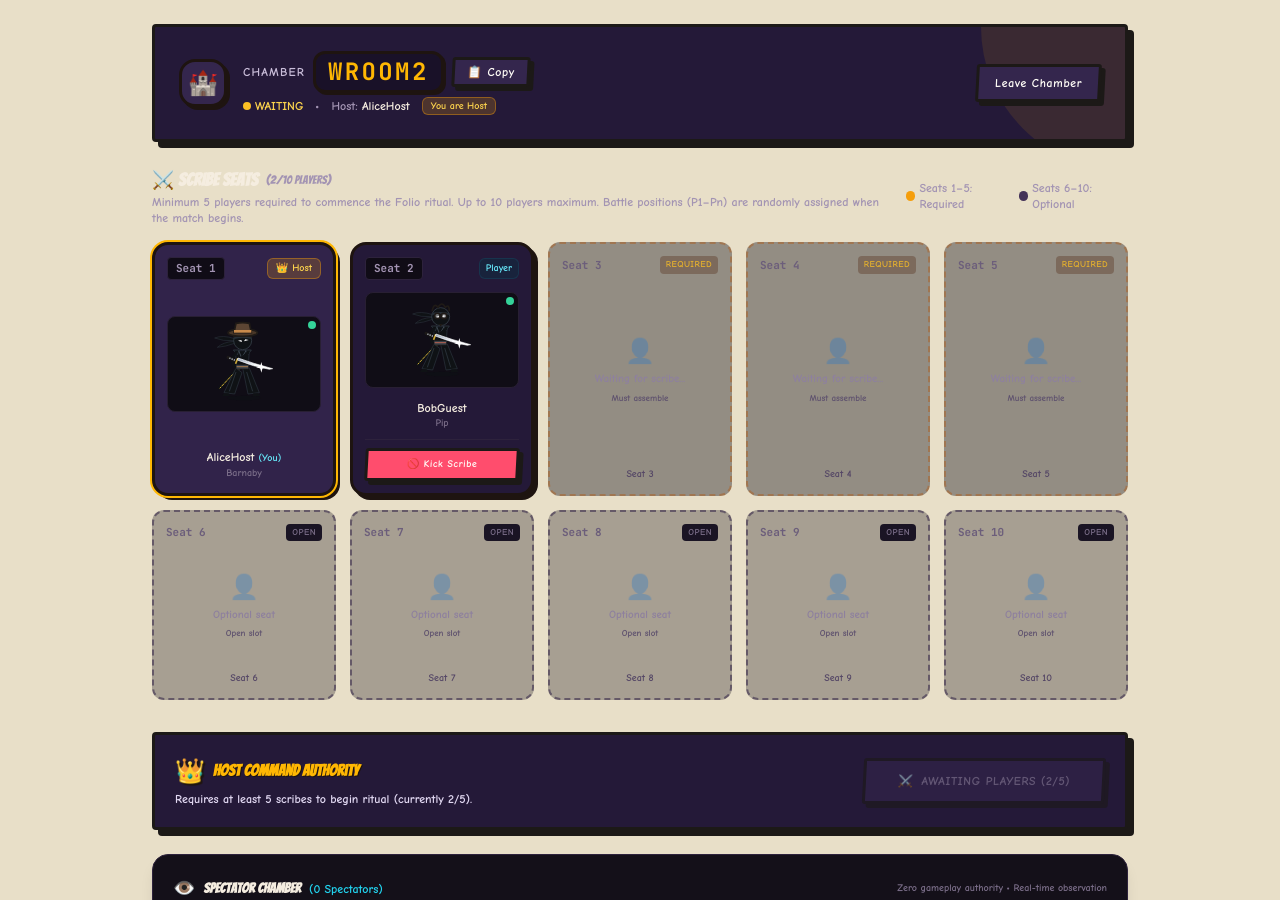
WaitingRoomScreen Component Tests (Milestone 2: Waiting Room & Host Controls) › clicking Copy chamber code copies code to clipboard and indicates feedback
Click the button titled "Copy chamber code" at (491, 72), box [451,57,530,87]
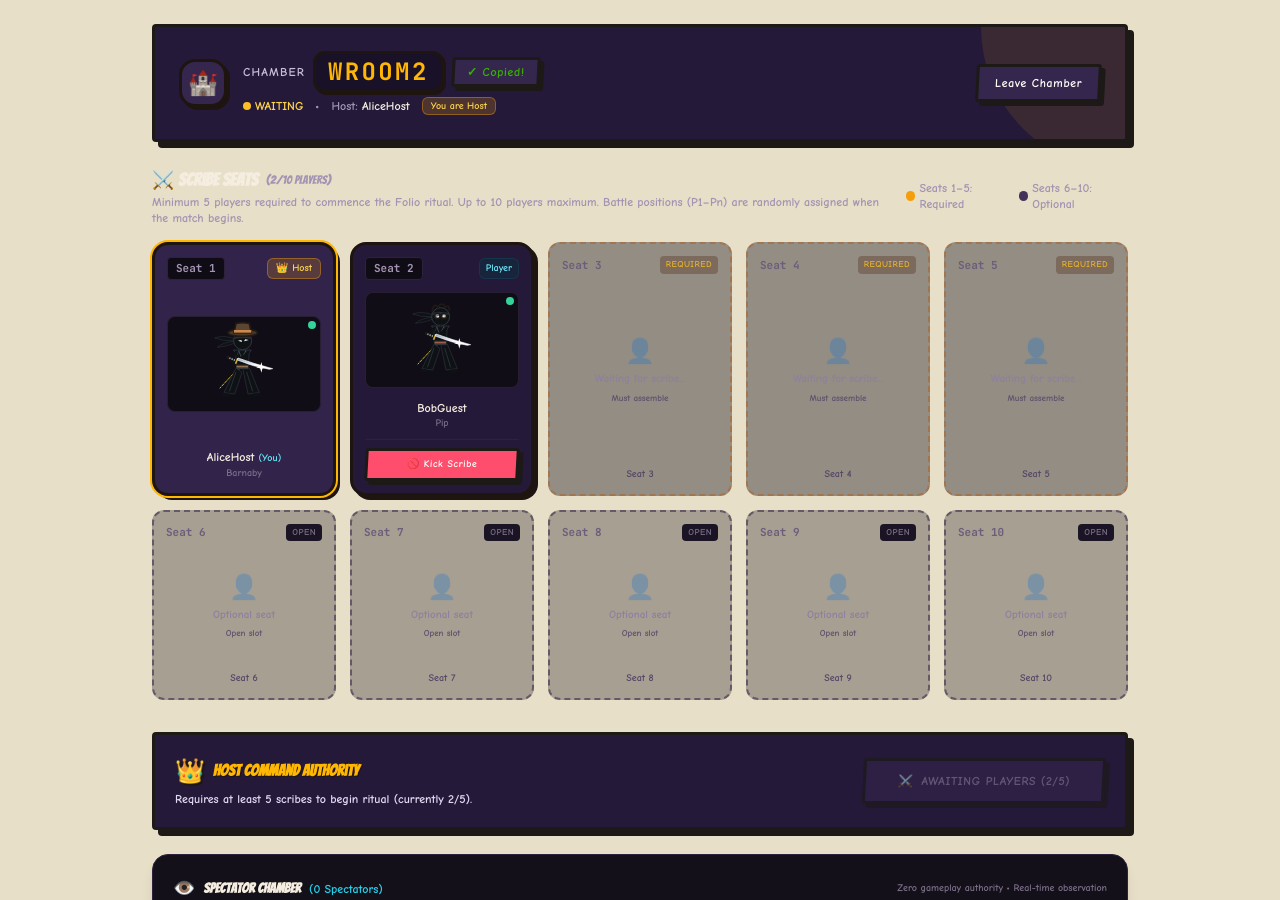
Expected: the text "✓ Copied!" is shown, [466,64,525,80]
